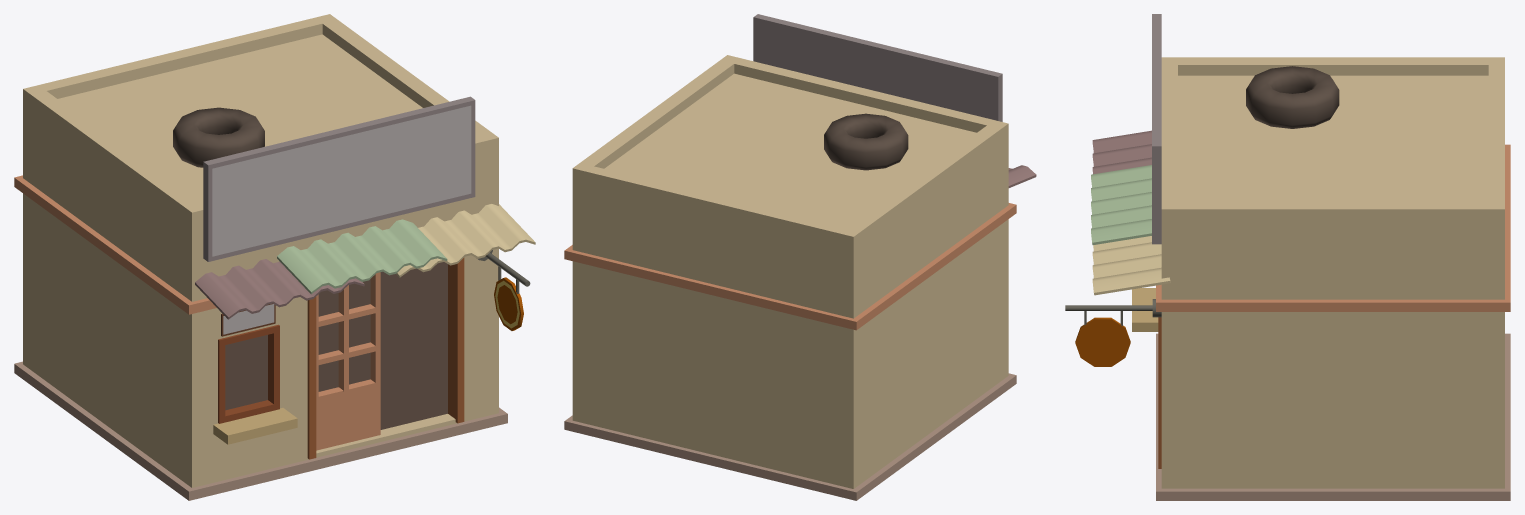
File: CountryStore01.fbx
3 views of the same model, side by side, from view 1: azimuth 30°, elevation 25°; view 2: azimuth 150°, elevation 25°; view 3: azimuth 270°, elevation 25° (orthographic). The views are drawn at different scales.
Parts seen in each view (by area): view 1: CountryStore01; view 2: CountryStore01; view 3: CountryStore01.
Boxes of the visible parts, x1=… form: CountryStore01: x1=14, y1=14, x2=535, y2=500; CountryStore01: x1=564, y1=14, x2=1036, y2=500; CountryStore01: x1=1065, y1=14, x2=1510, y2=500.
Bounding box in the file's own units: 76.51 × 91.25 × 76.39.
